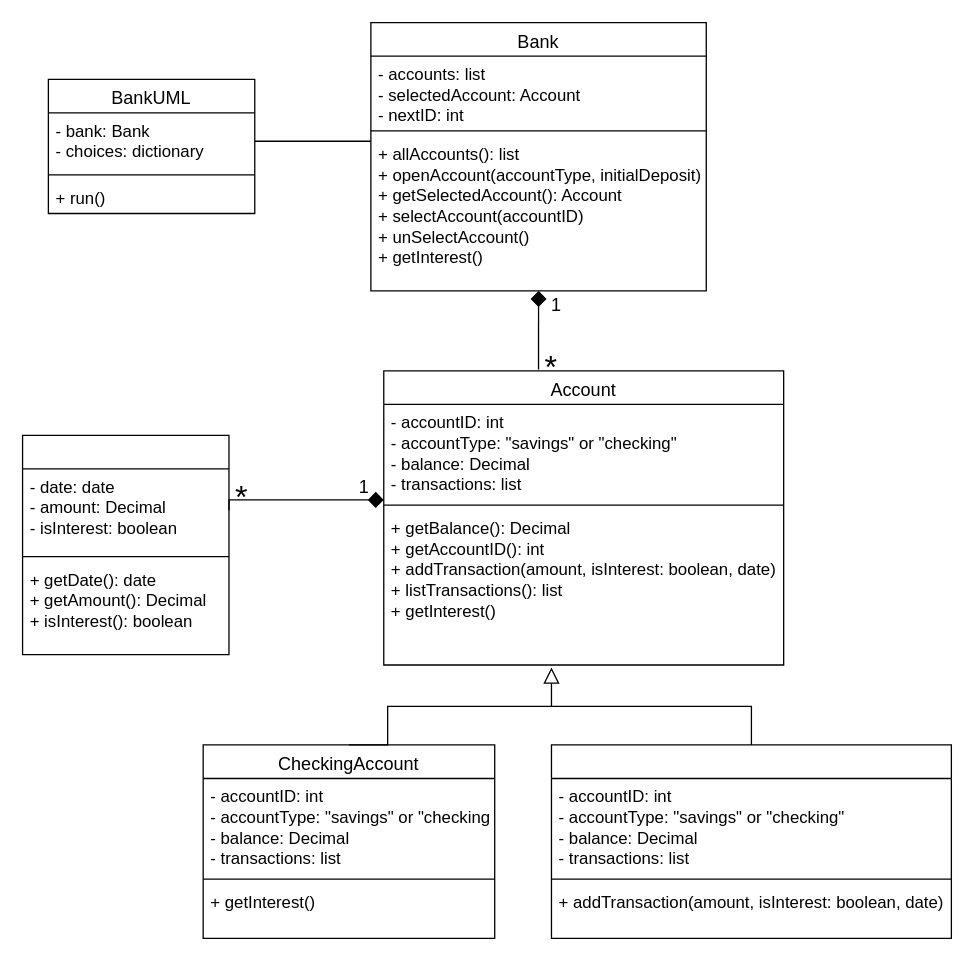
The diagram is 974 pixels wide and 965 high, and some of its shapes have lost their labels. Each missing label, with the box of its shape:
SavingsAccount: (550, 744, 951, 938)
Transaction: (21, 434, 229, 655)
